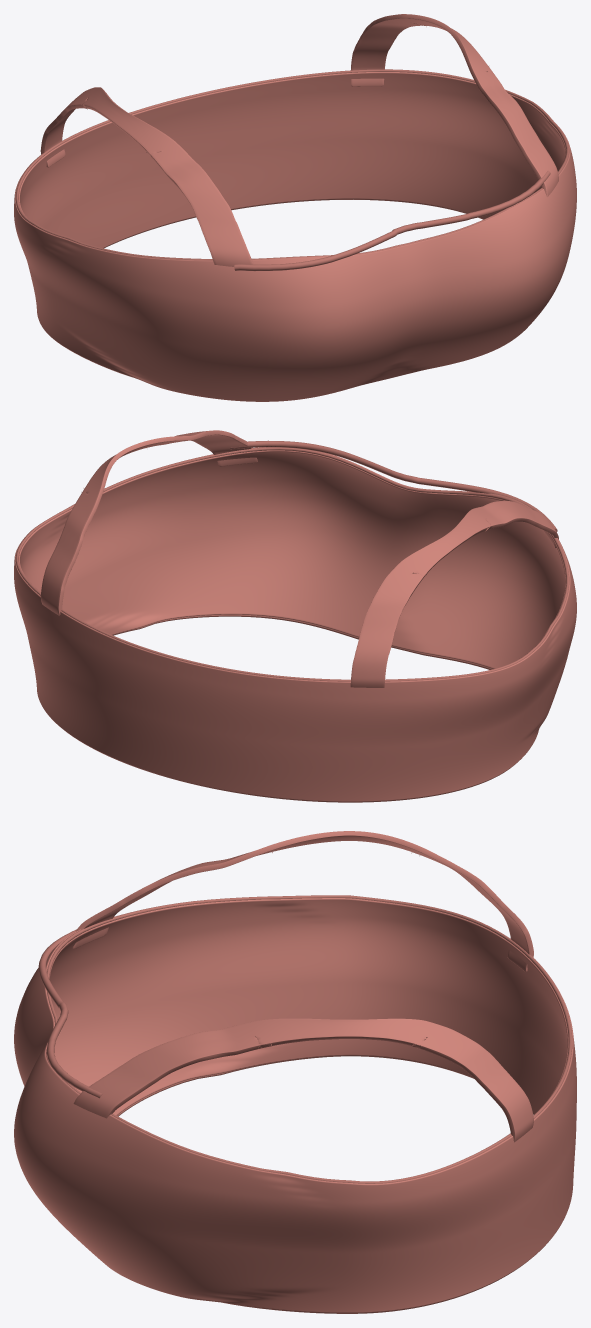
Rendered from Feminine-strappy-top.glb.
3 renders of one model, top to bottom at view 1: azimuth 30°, elevation 25°; view 2: azimuth 150°, elevation 25°; view 3: azimuth 270°, elevation 25°, orthographic. The views are drawn at different scales.
Visible parts, largest first — view 1: Clothing / strappy body, Clothing / strappy strap -1, Clothing / strappy strap 1, strappy body / bound edge.001 export, Crop / seated diagonal strap export, strappy body / bound edge export; view 2: Clothing / strappy body, Clothing / strappy strap -1, Clothing / strappy strap 1, strappy body / bound edge.001 export, Crop / seated diagonal strap export, strappy body / bound edge export; view 3: Clothing / strappy body, Clothing / strappy strap 1, Clothing / strappy strap -1, strappy body / bound edge.001 export, Crop / seated diagonal strap export, strappy body / bound edge export.
Part boxes in pixels (left/top/right/bottom): Clothing / strappy body: left=14, top=72, right=576, bottom=401; Clothing / strappy strap -1: left=40, top=87, right=253, bottom=266; Clothing / strappy strap 1: left=351, top=14, right=558, bottom=197; strappy body / bound edge.001 export: left=15, top=69, right=569, bottom=260; Crop / seated diagonal strap export: left=234, top=170, right=550, bottom=271; strappy body / bound edge export: left=60, top=199, right=483, bottom=376; Clothing / strappy body: left=14, top=447, right=576, bottom=801; Clothing / strappy strap -1: left=350, top=500, right=558, bottom=687; Clothing / strappy strap 1: left=40, top=430, right=257, bottom=615; strappy body / bound edge.001 export: left=15, top=447, right=569, bottom=681; Crop / seated diagonal strap export: left=230, top=440, right=557, bottom=532; strappy body / bound edge export: left=72, top=614, right=504, bottom=802; Clothing / strappy body: left=14, top=898, right=576, bottom=1312; Clothing / strappy strap 1: left=73, top=1018, right=533, bottom=1142; Clothing / strappy strap -1: left=72, top=831, right=533, bottom=971; strappy body / bound edge.001 export: left=46, top=895, right=572, bottom=1183; Crop / seated diagonal strap export: left=38, top=929, right=102, bottom=1098; strappy body / bound edge export: left=117, top=1055, right=519, bottom=1313.
Size of the model in its own units: 0.6458 by 0.2852 by 0.5334.
